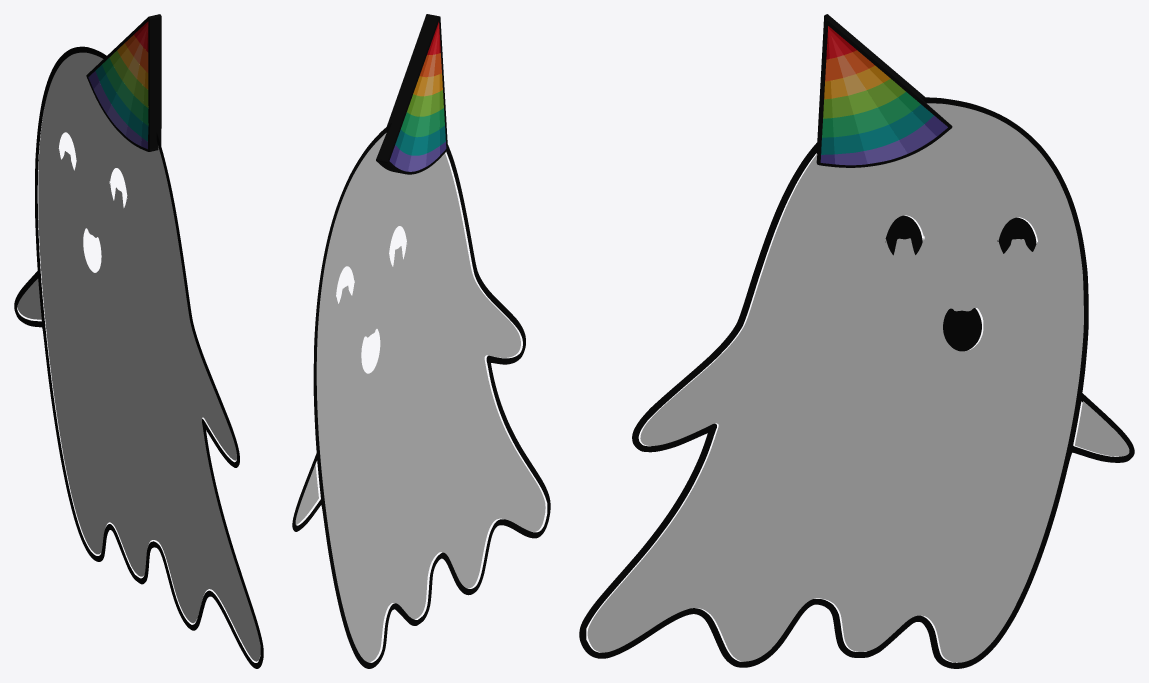
File: party_disappear.glb
3 views of the same model, side by side, from view 1: azimuth 30°, elevation 25°; view 2: azimuth 150°, elevation 25°; view 3: azimuth 270°, elevation 25° (orthographic). The views are drawn at different scales.
Visible parts, largest first — view 1: base, party_hat.001; view 2: base, party_hat.001; view 3: base, party_hat.001.
Part boxes in pixels (x1,y1,x2,y2): base: (14, 46, 263, 668); party_hat.001: (86, 14, 161, 151); base: (292, 123, 550, 668); party_hat.001: (376, 14, 447, 174); base: (579, 97, 1134, 668); party_hat.001: (816, 14, 952, 167).
Bounding box in the file's own units: 0.3204 × 9.87 × 7.61.
